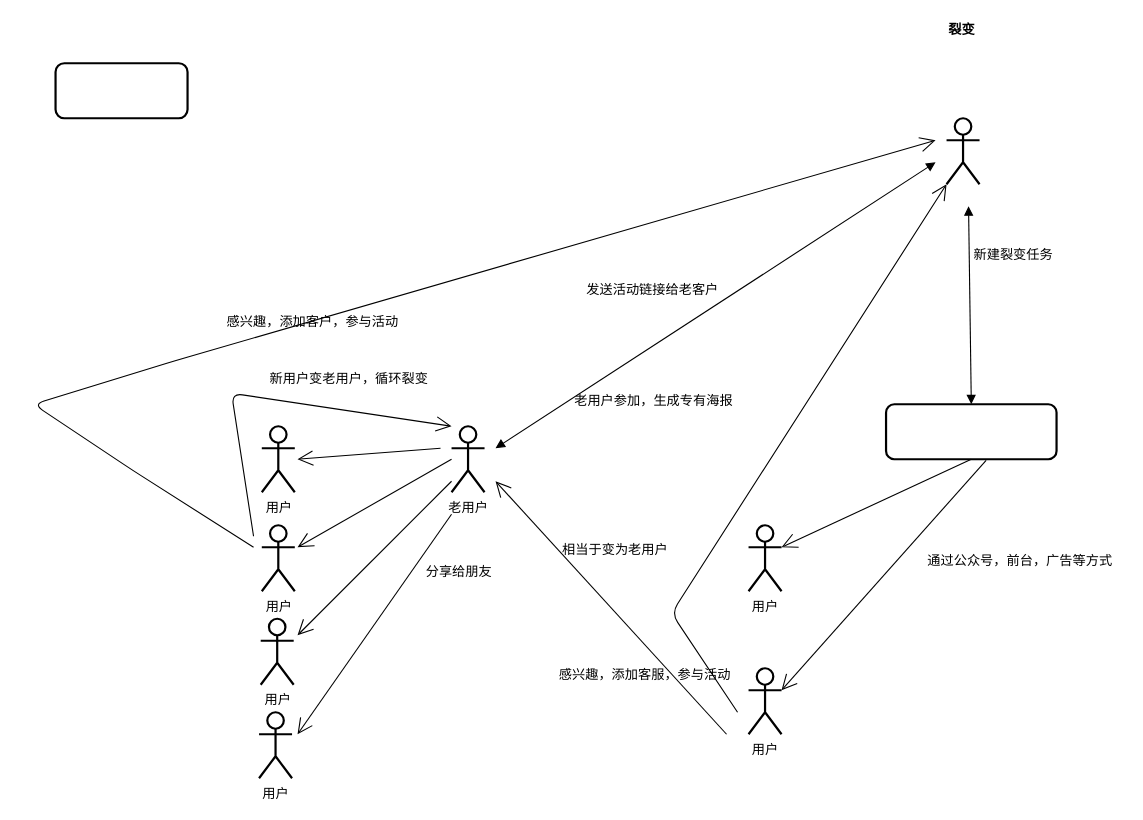
Image size: 1143x820. Some labels were removed from this diagram. The shapes that lost their labels are listed below. From the top down, each one's centre as x and y in pixels, then its label:
pixel 121 90: 企业微信（云端商机）
pixel 962 151: 销售
pixel 970 431: 云端商机（企业、系统）
